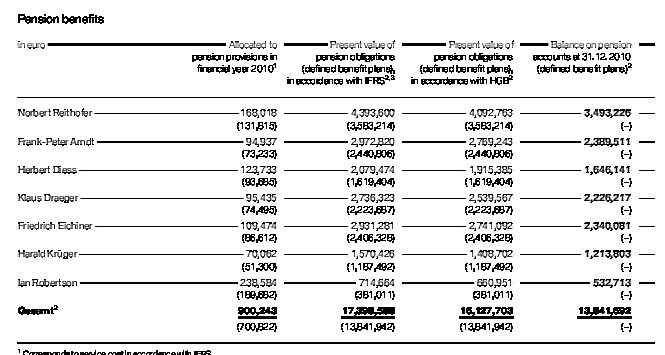table: (0, 0, 665, 355)
